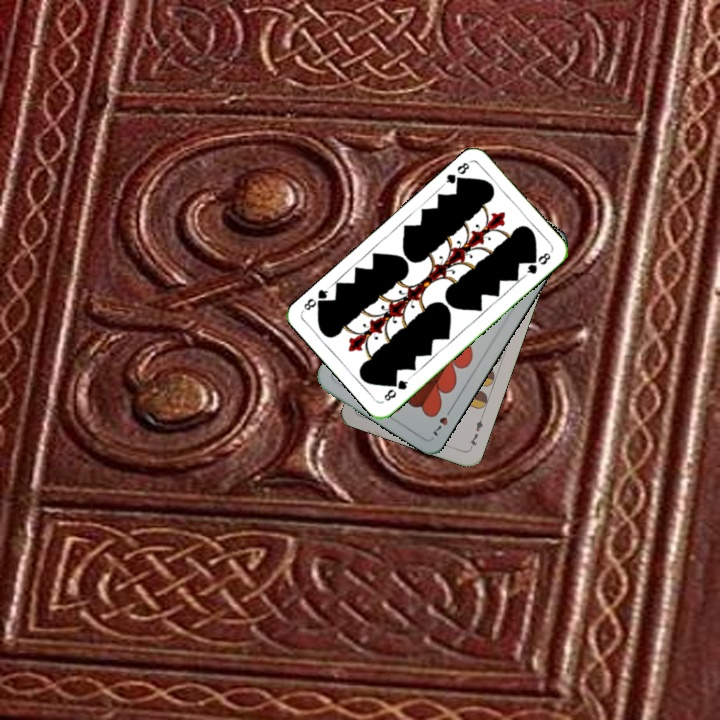E7: (464, 412, 486, 452)
G8: (439, 157, 472, 189), (380, 373, 412, 404)
H7: (429, 403, 455, 439)
